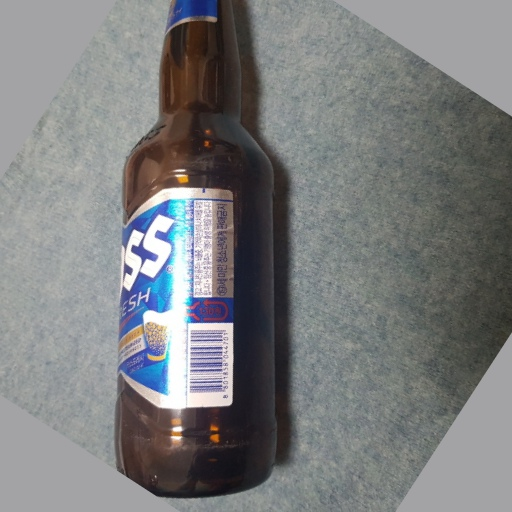Glass_1: (116, 1, 283, 498)
